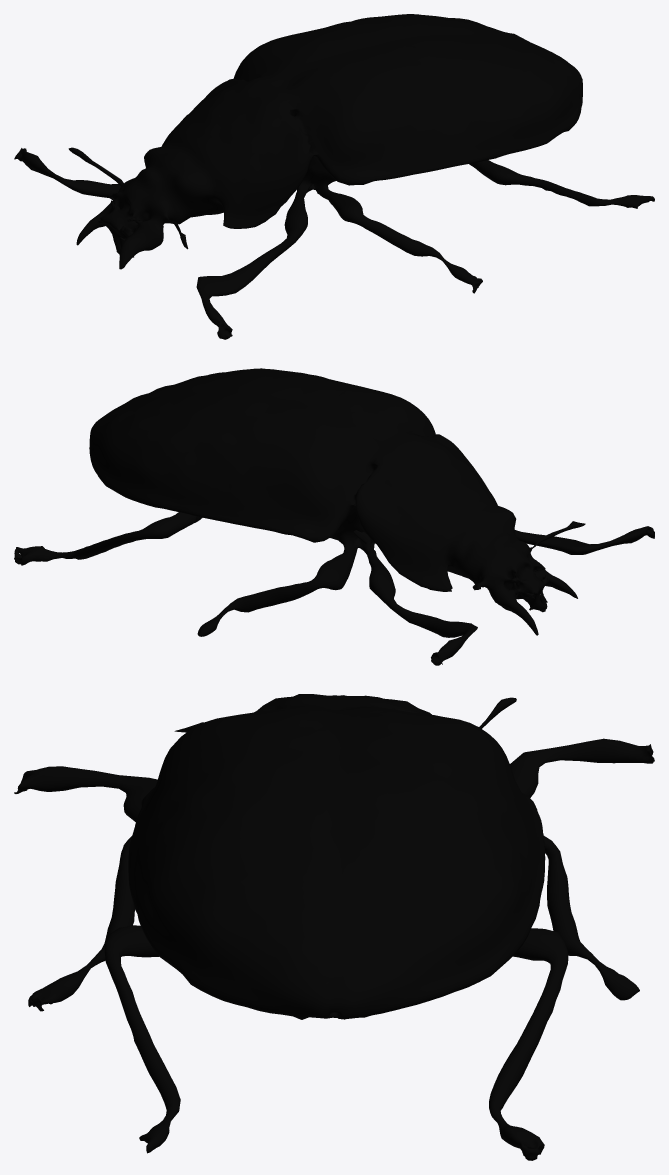
The picture shows the model from 3 angles, top to bottom: view 1: azimuth 30°, elevation 25°; view 2: azimuth 150°, elevation 25°; view 3: azimuth 270°, elevation 25°; orthographic projection. The views are drawn at different scales.
Parts seen in each view (by area): view 1: Low_0; view 2: Low_0; view 3: Low_0.
Boxes of the visible parts, x1,y1,x2,y2 form: Low_0: (14,14,654,339); Low_0: (14,368,654,665); Low_0: (14,694,654,1160).
Bounding box in the file's own units: 1.07 × 0.3625 × 0.7983.
Materials: 1 (1 with a texture image).
